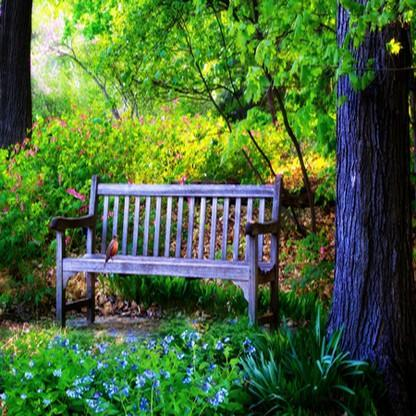obstacle: (42, 163, 289, 329)
